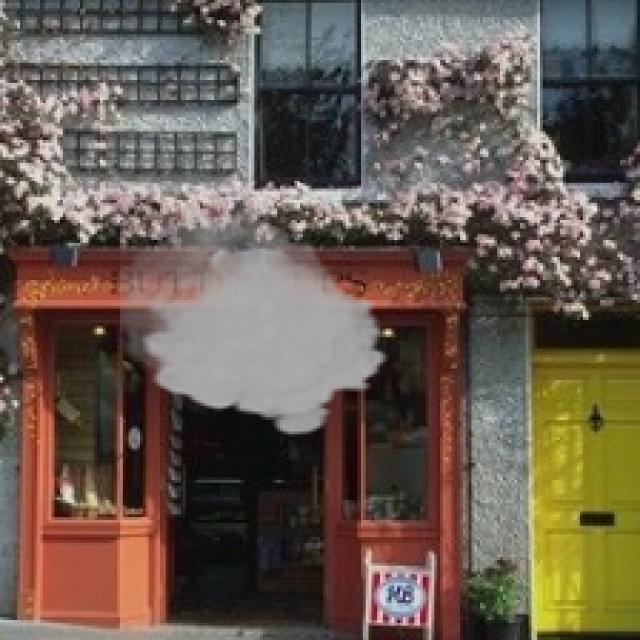smoke: (120, 197, 391, 437)
